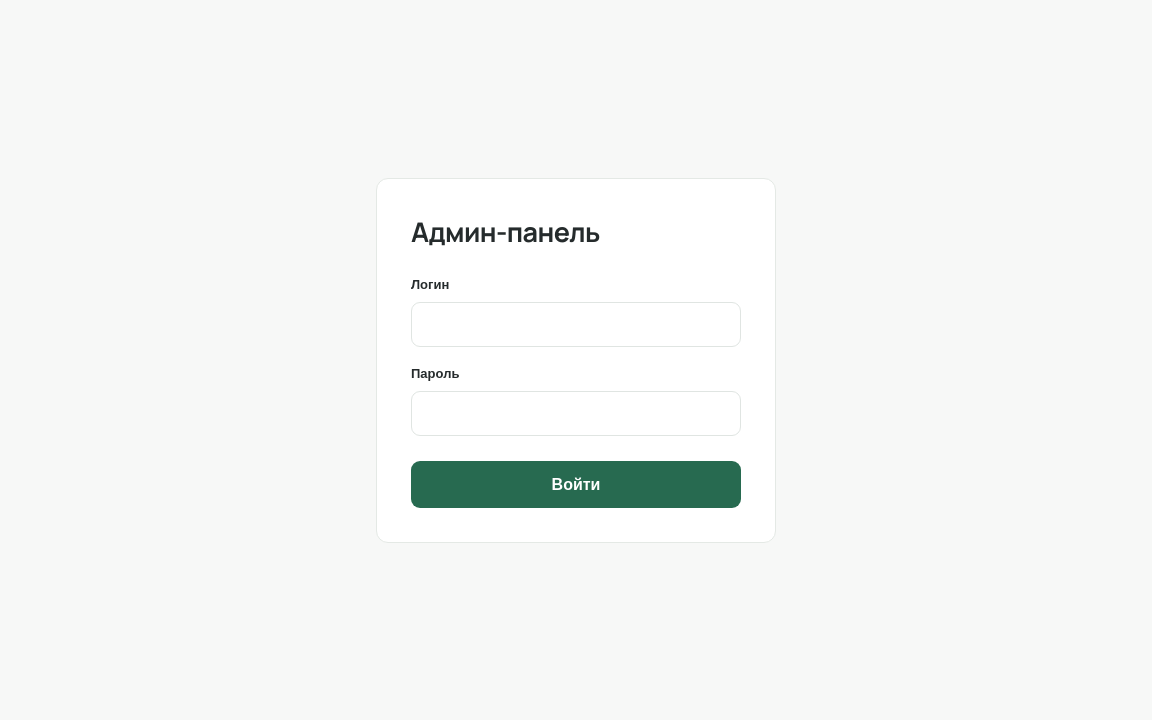
Test: админка › отключить / включить стихотворение
Step 1. Type "admin" into the field labelled "Логин" → (576, 324), box x1=411 y1=302 x2=741 y2=346
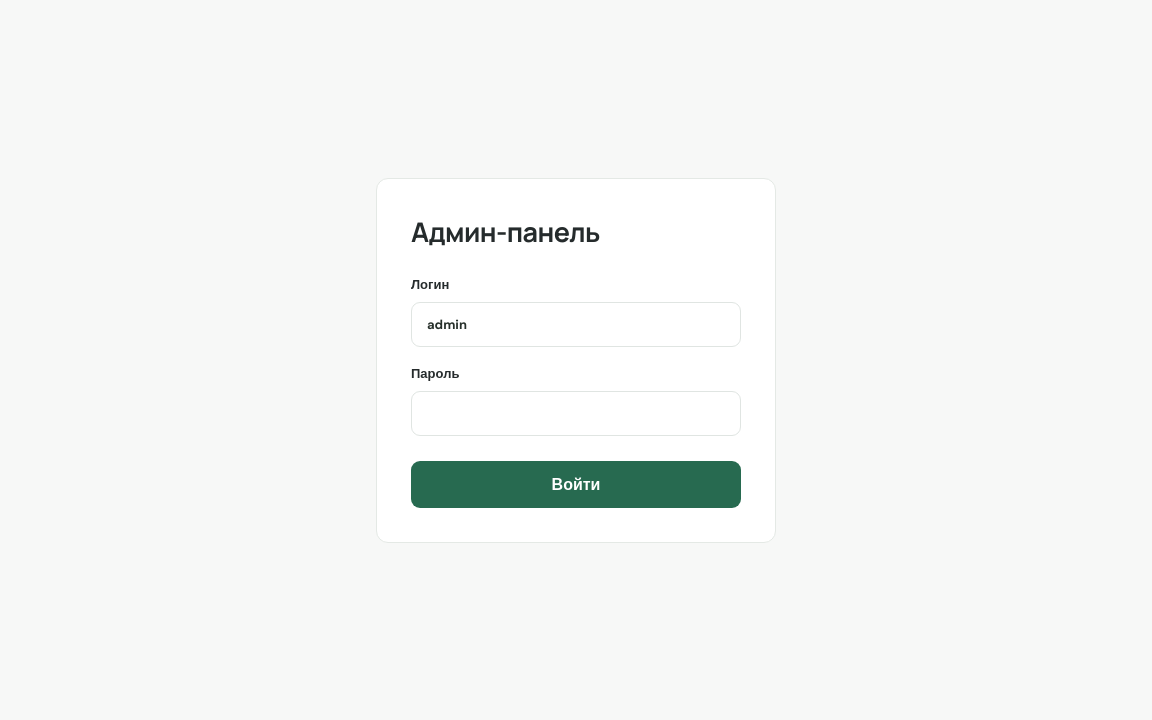
Step 2. Type "secret-secret-1" into the password field labelled "Пароль" → (576, 413), box x1=411 y1=390 x2=741 y2=436
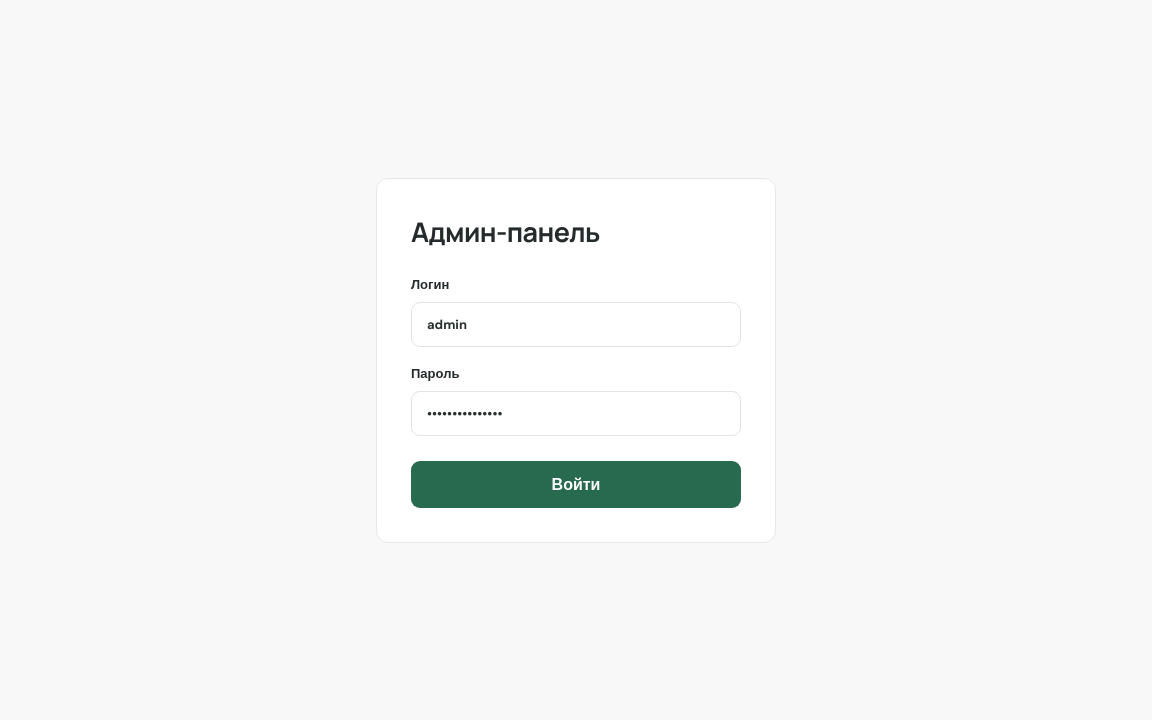
Step 3. Click the button "Войти" → (576, 484), box x1=411 y1=460 x2=741 y2=508
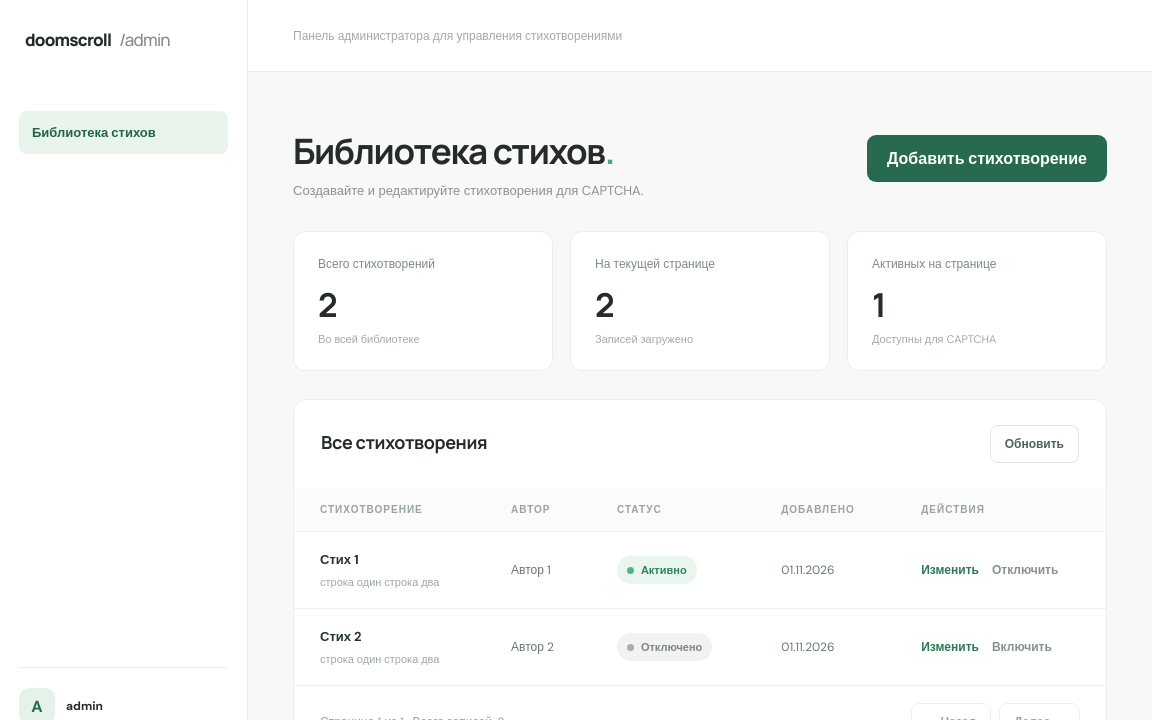
Expected: the text "Стих 1" is shown, x1=320 y1=551 x2=359 y2=568
Step 4. Click the button "Отключить" → (1025, 570), box x1=992 y1=562 x2=1058 y2=578
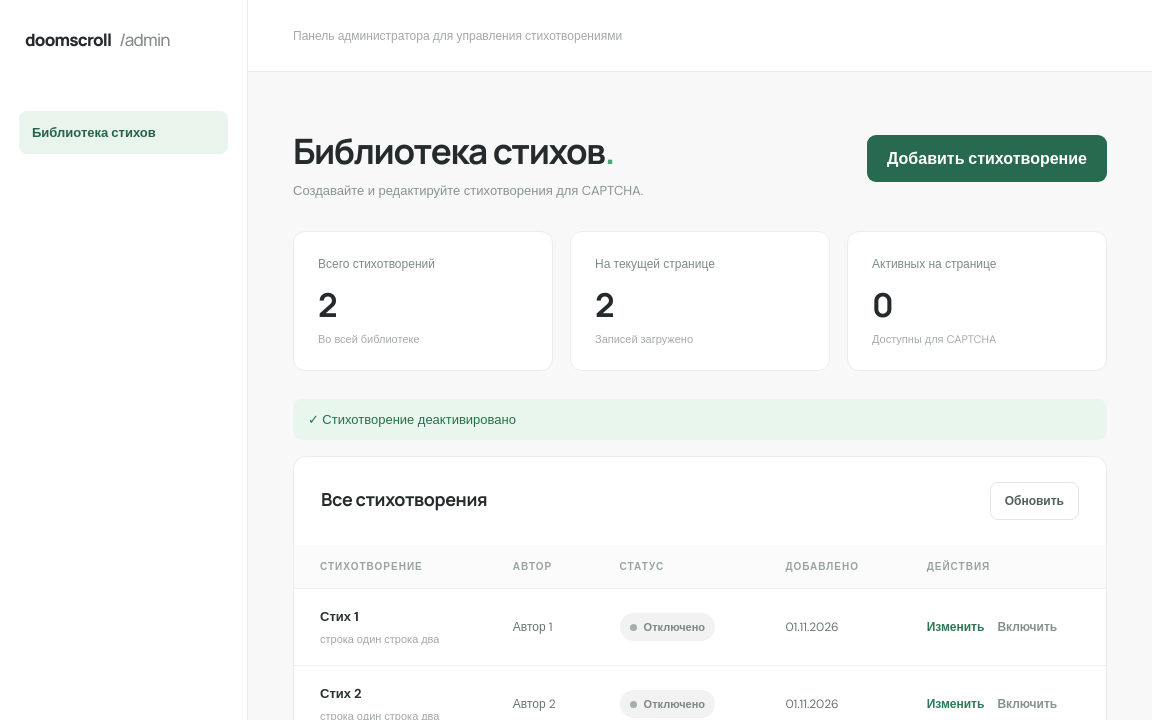
Expected: the number of buttons "Включить" is 2, x1=997 y1=619 x2=1057 y2=635; x1=997 y1=696 x2=1057 y2=712
Expected: the text "✓ Стихотворение деактивировано" is shown, x1=293 y1=399 x2=1107 y2=440
